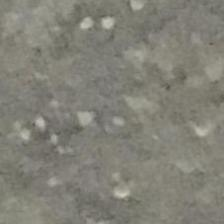Non_Crack: (19, 28, 224, 224)
